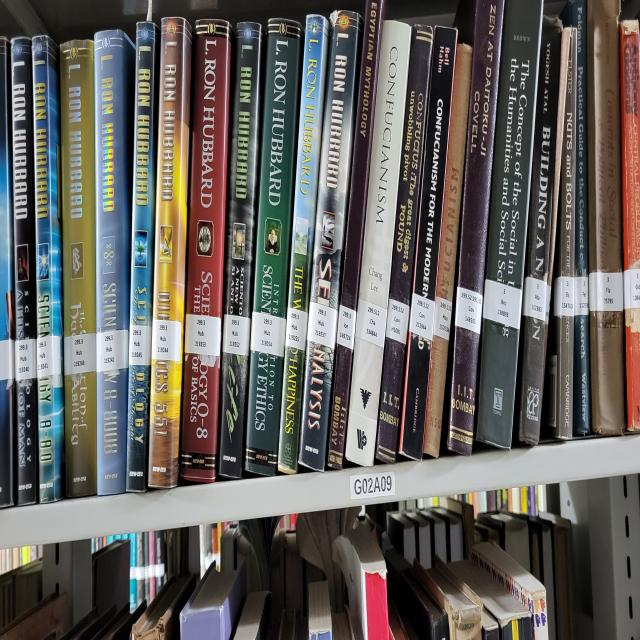Book: (475, 0, 542, 449), (345, 19, 411, 465), (299, 11, 362, 471), (245, 19, 304, 476), (328, 0, 385, 468), (446, 0, 504, 455), (400, 27, 458, 460), (375, 27, 432, 463), (181, 22, 232, 482), (279, 14, 330, 473), (219, 22, 265, 479), (148, 19, 192, 490), (514, 16, 562, 444), (424, 43, 472, 457), (94, 30, 135, 495), (60, 41, 98, 498), (588, 0, 625, 436), (126, 19, 160, 492), (31, 35, 64, 503), (11, 38, 38, 506), (562, 0, 590, 436), (554, 30, 576, 438)
Label: (482, 279, 522, 330), (355, 298, 388, 349), (251, 311, 286, 357), (185, 314, 221, 357), (308, 300, 338, 349), (589, 271, 624, 311), (64, 333, 96, 376), (151, 319, 182, 363), (96, 330, 129, 371), (455, 287, 482, 335), (409, 292, 435, 341), (522, 276, 548, 322), (222, 314, 251, 354), (36, 335, 61, 379), (285, 306, 308, 352), (386, 298, 409, 344), (432, 295, 452, 341), (15, 338, 36, 381), (129, 325, 151, 365), (554, 276, 575, 317), (338, 306, 356, 349), (624, 268, 640, 311), (574, 276, 589, 317)
